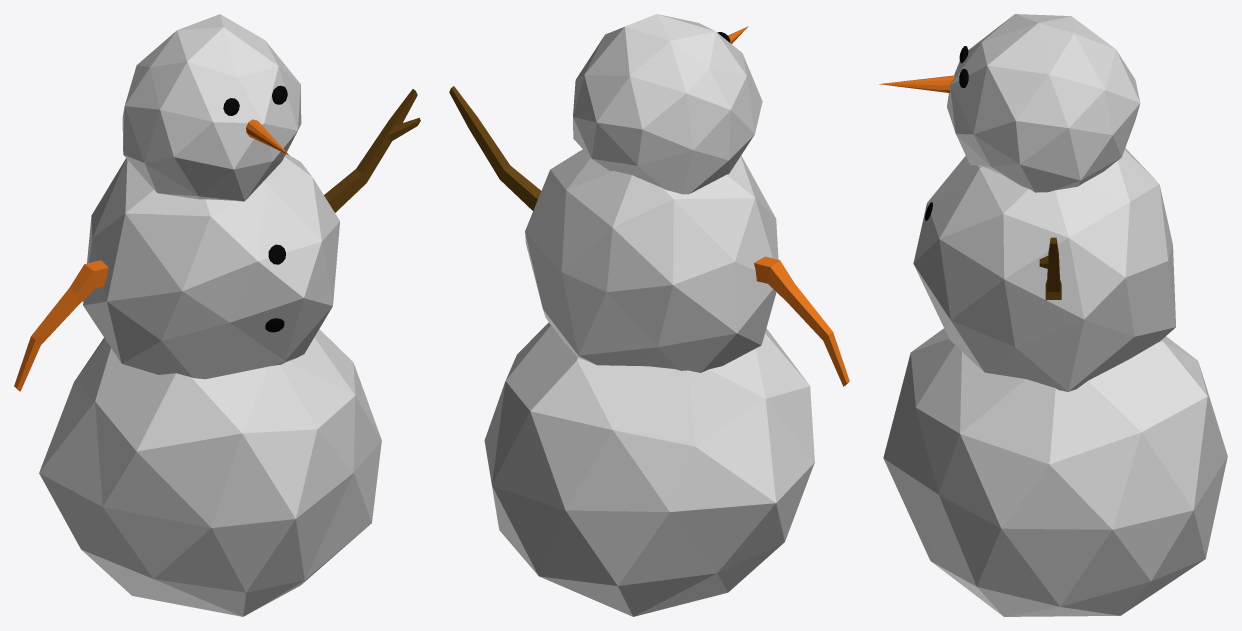
File: snowman.dae
3 renders of one model, left to right at view 1: azimuth 30°, elevation 25°; view 2: azimuth 150°, elevation 25°; view 3: azimuth 270°, elevation 25°, orthographic.
Visible parts, largest first — view 1: Cone_000; view 2: Cone_000; view 3: Cone_000.
Part boxes in pixels (bbox=[...]): Cone_000: bbox=[14, 14, 420, 616]; Cone_000: bbox=[449, 14, 849, 616]; Cone_000: bbox=[879, 14, 1227, 616].
Size of the model in its own units: 0.5052 by 0.3791 by 0.6966.
